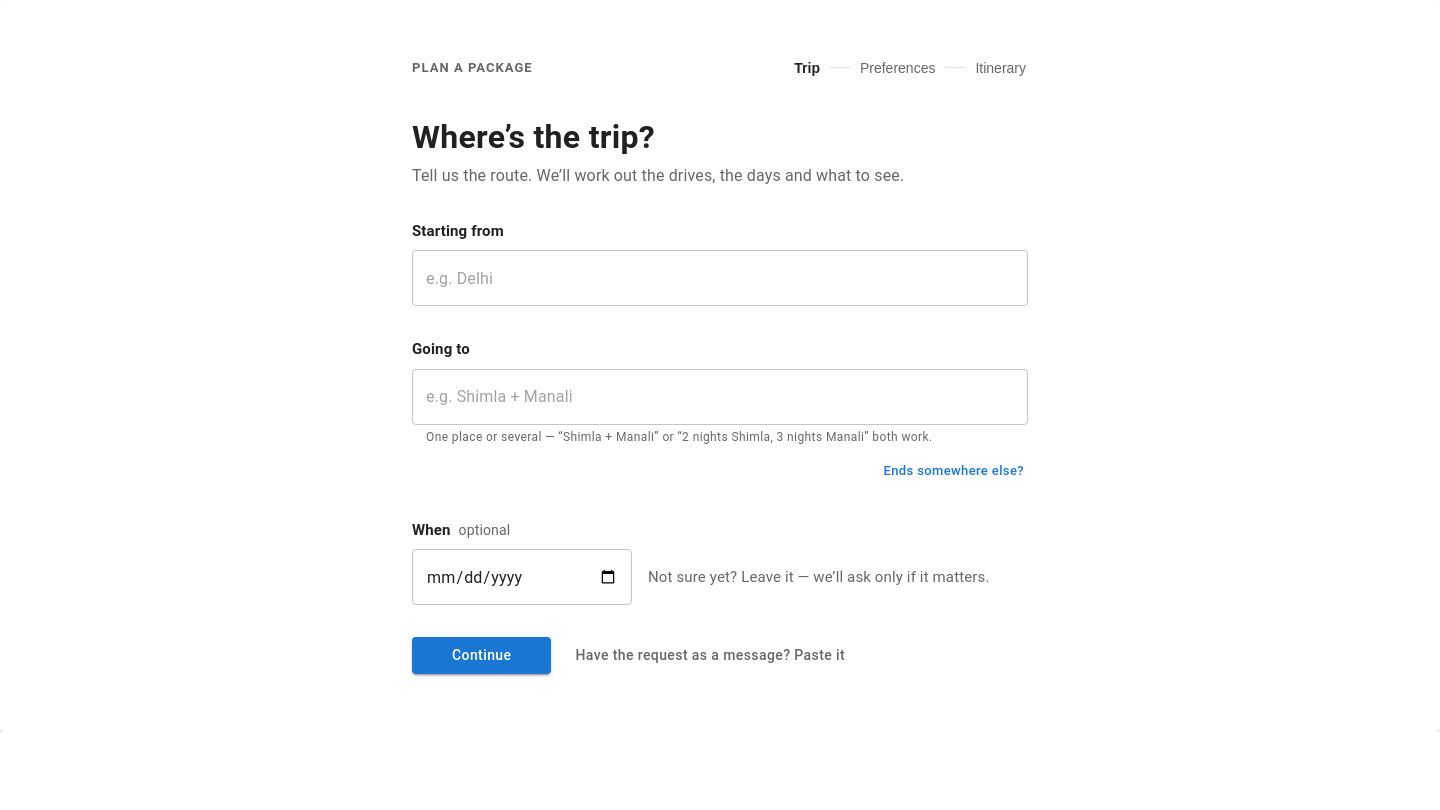
Test: Package planner — the simple flow › a route typed as “Delhi → Shimla → Manali → Delhi” fills the starting city too
The image size is (1440, 810).
Type "Delhi → Shimla → Manali → Delhi" into the field named "Going to" at (720, 397), box [412,369,1028,425]
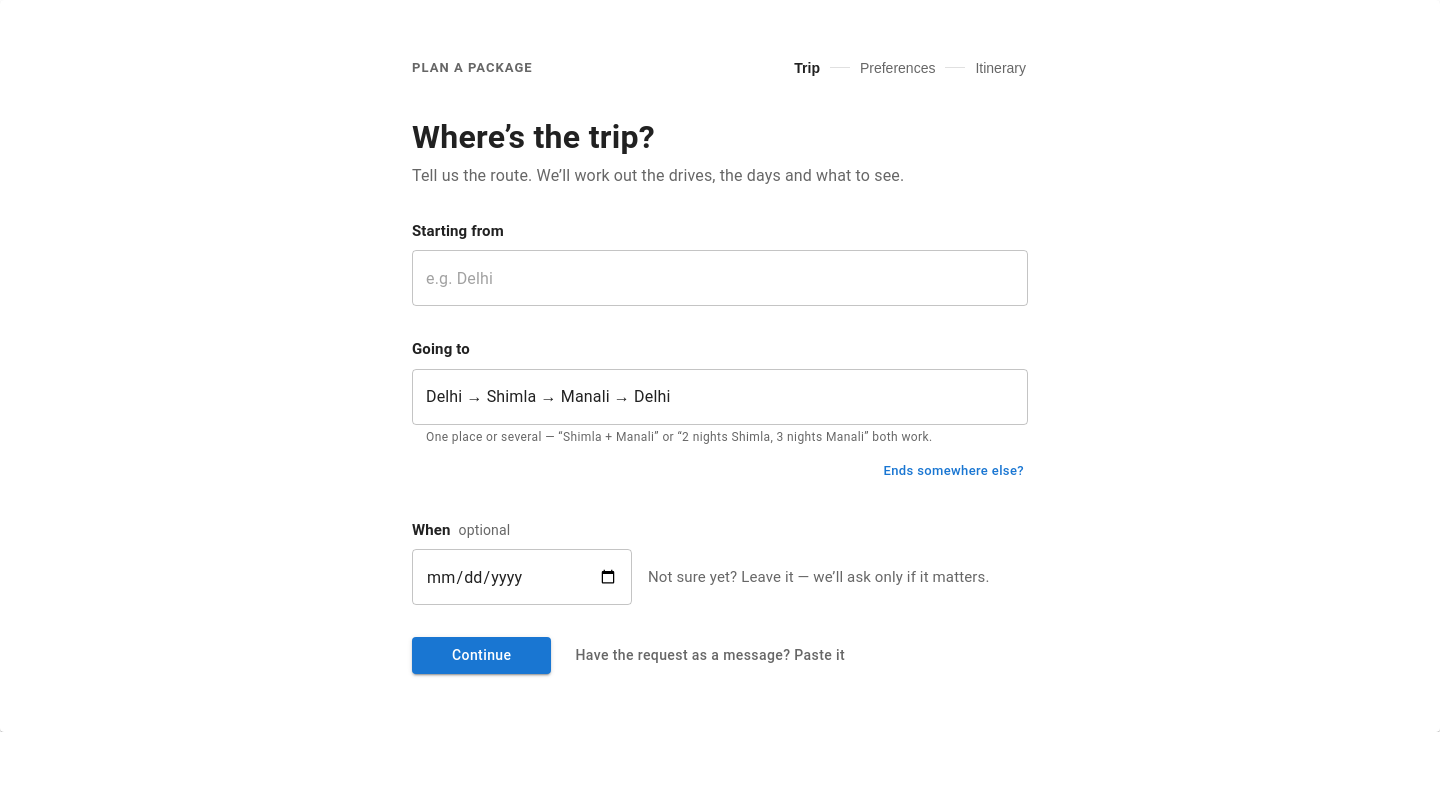
Press Enter in the field named "Going to", box [412,369,1028,425]
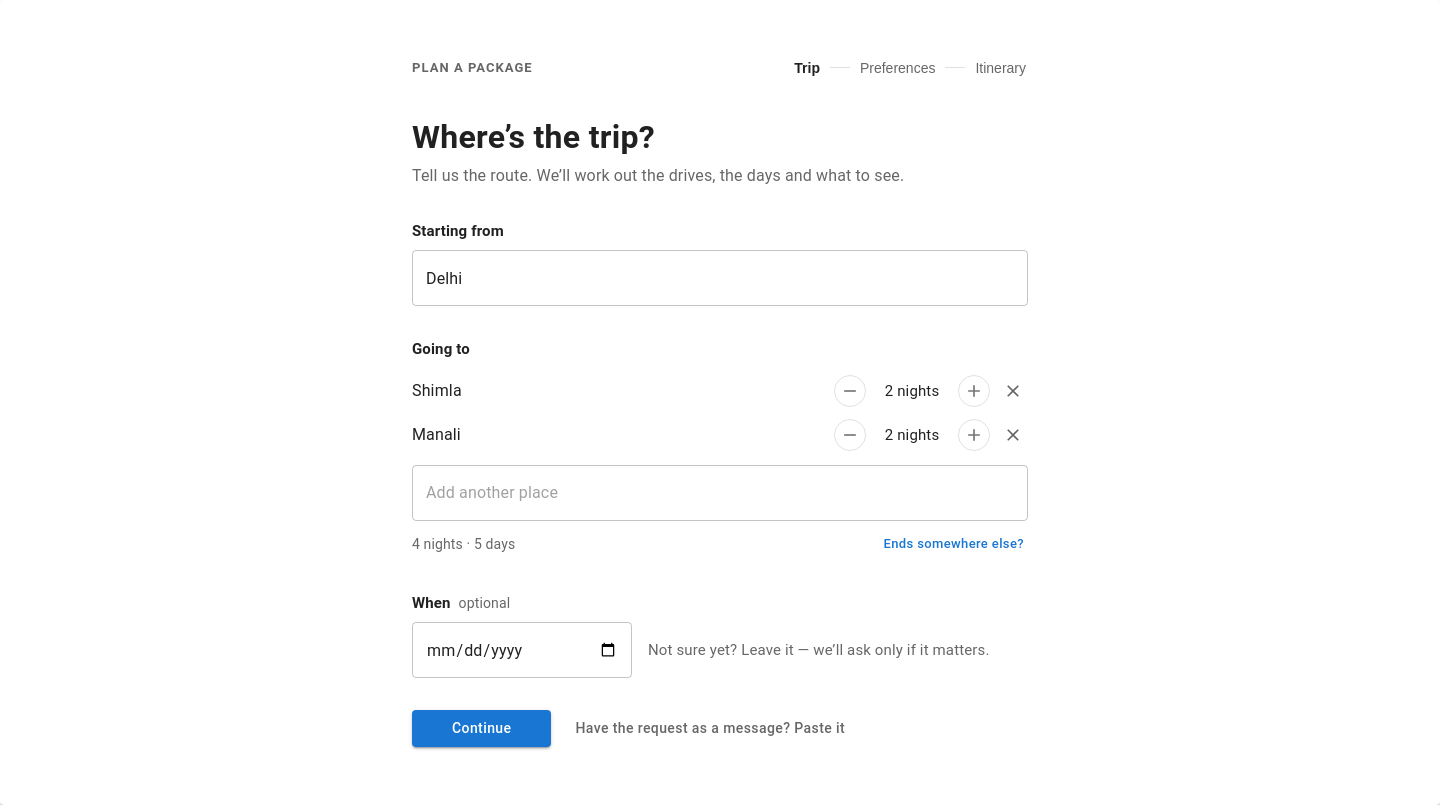
Now the field named "Starting from" holds "Delhi", box [412,250,1028,306]
Now the text "4 nights · 5 days" is shown, box [412,534,515,555]
